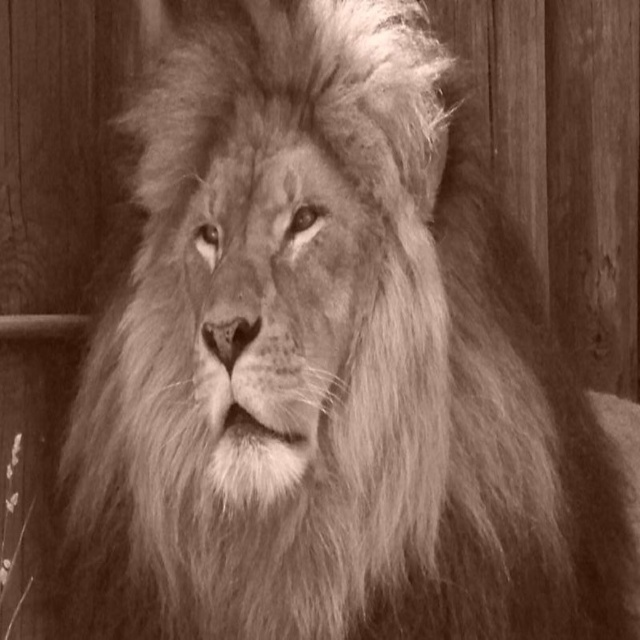Lion: (43, 0, 639, 639)
